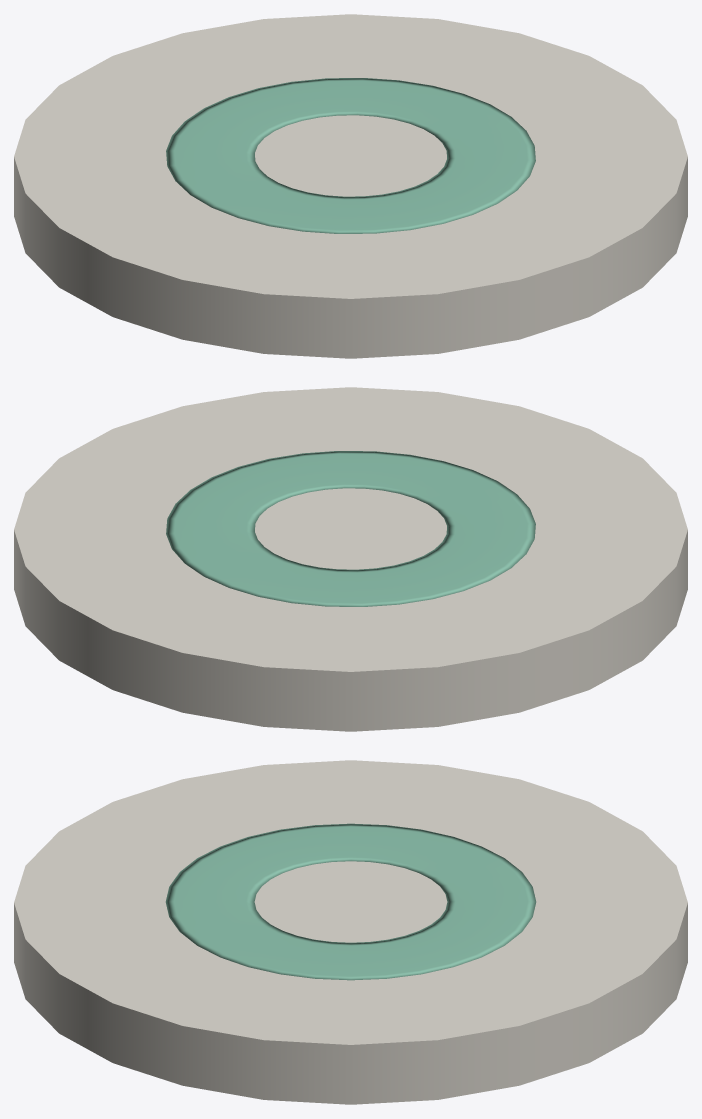
File: wireless-charger.glb
The picture shows the model from 3 angles, top to bottom: view 1: azimuth 30°, elevation 25°; view 2: azimuth 150°, elevation 25°; view 3: azimuth 270°, elevation 25°; orthographic projection.
Visible parts, largest first — view 1: wireless-charger; view 2: wireless-charger; view 3: wireless-charger.
Part boxes in pixels (x1,y1,x2,y2): wireless-charger: [14, 14, 687, 358]; wireless-charger: [14, 387, 687, 731]; wireless-charger: [14, 760, 687, 1104].
Bounding box in the file's own units: 10 × 1 × 10.
